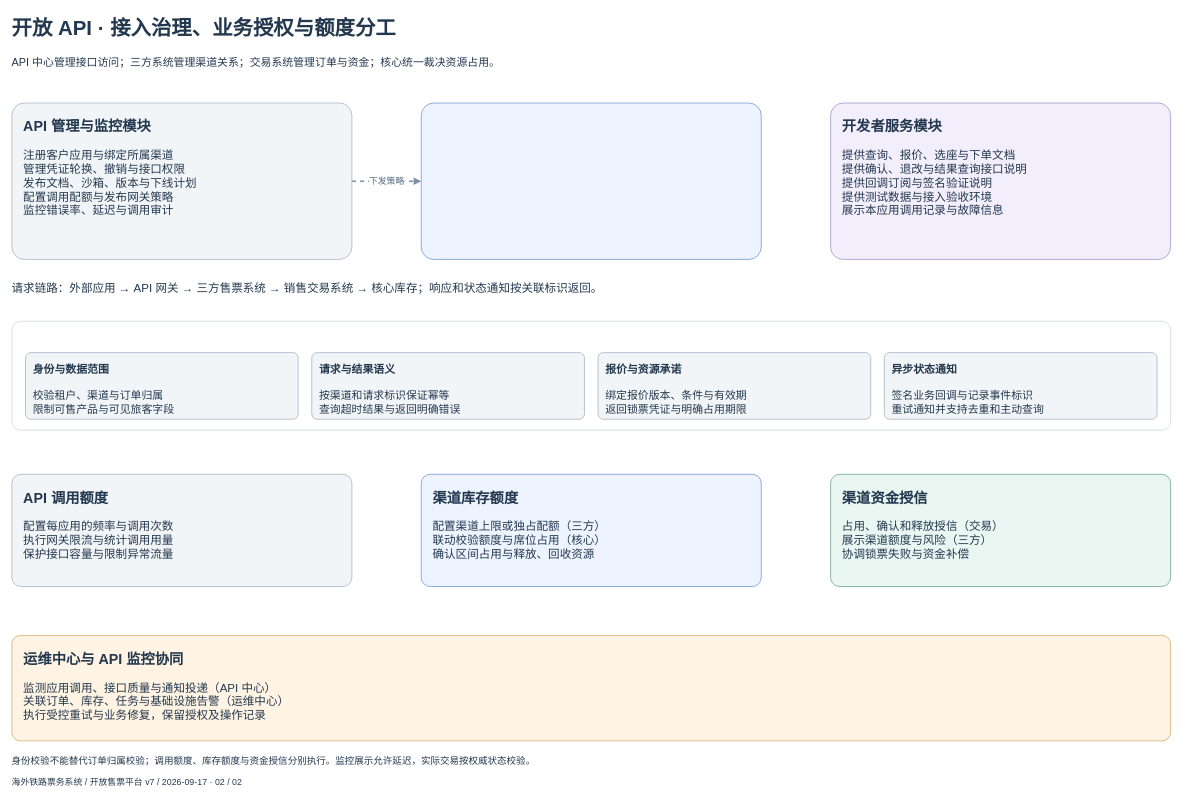
The diagram is 1183 pixels wide and 802 high, and some of its shapes have lost their labels. The box of each missing label's shape, as (x1, y1, x2, y2) in pixels:
API 网关模块 校验访问凭证与执行接口授权 绑定可信租户、应用与渠道身份 限制频率、并发与请求体大小 路由请求与贯通关联追踪标识 过滤敏感日志与拒绝失效凭证: (421, 102, 761, 259)
统一售票接口契约 · 约束客户应用与 OTA 的业务行为: (11, 321, 1171, 430)
